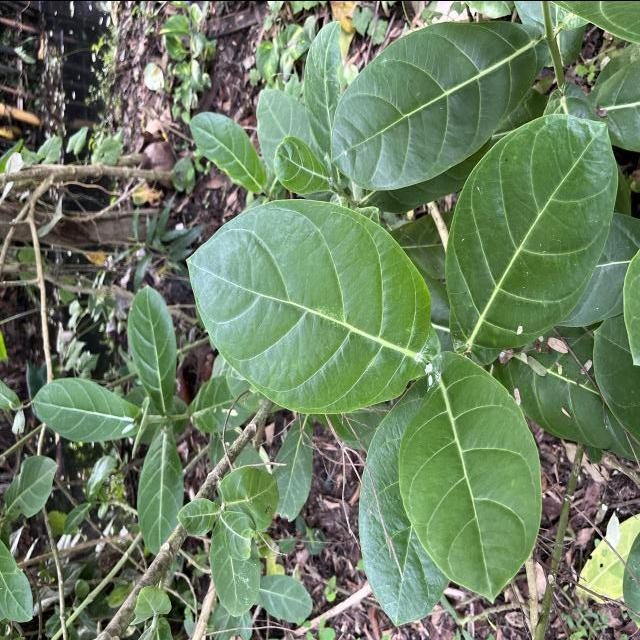Calotropis gigantea: (184, 197, 436, 416), (442, 111, 620, 363), (328, 17, 550, 191), (396, 350, 544, 606), (358, 371, 450, 629), (32, 374, 143, 444), (127, 282, 178, 416), (189, 110, 267, 194), (136, 424, 184, 556)
